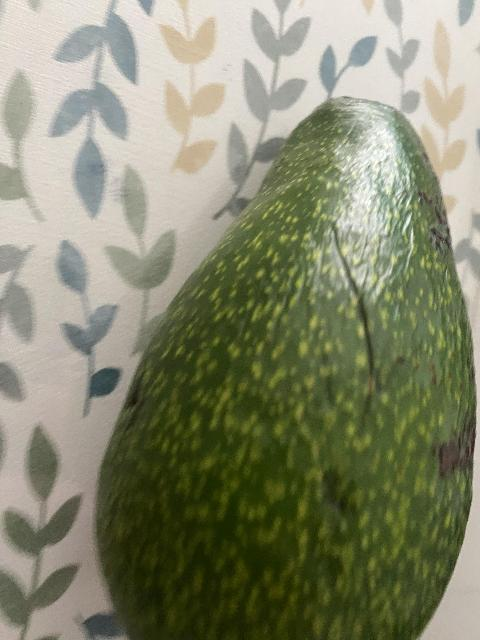Organik: (87, 98, 473, 640)
